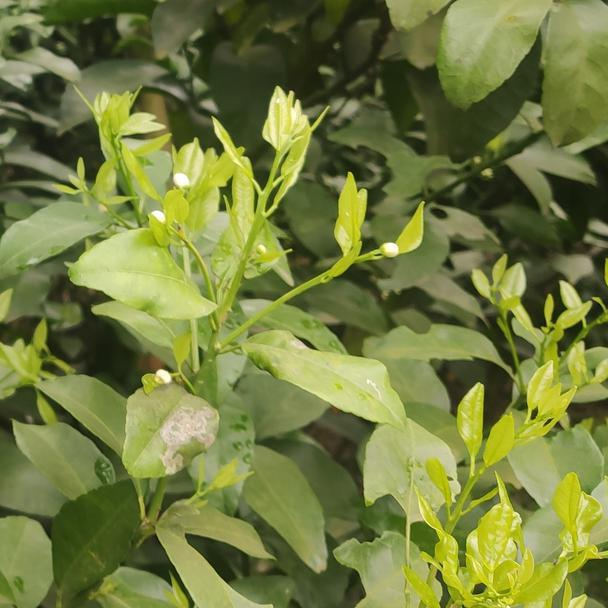shoot: (437, 357, 571, 519), (230, 91, 325, 258), (318, 179, 434, 295), (81, 81, 164, 213), (467, 262, 534, 368)
